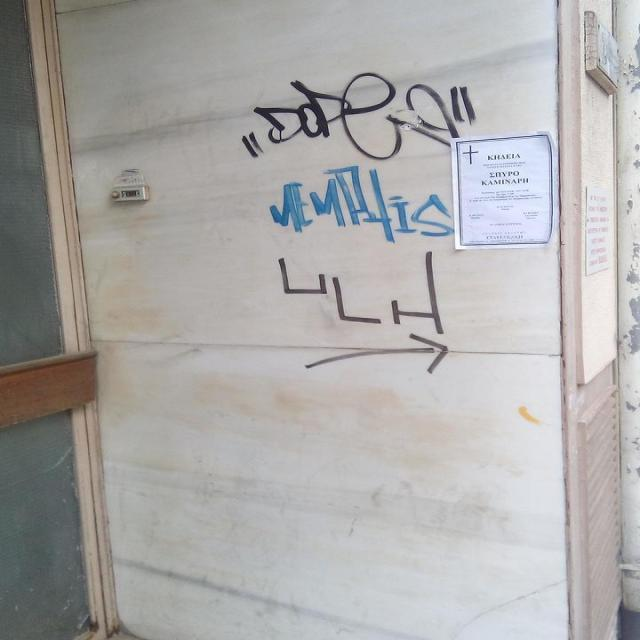nonspitting: (278, 251, 450, 374), (244, 71, 476, 161), (270, 164, 457, 246)
